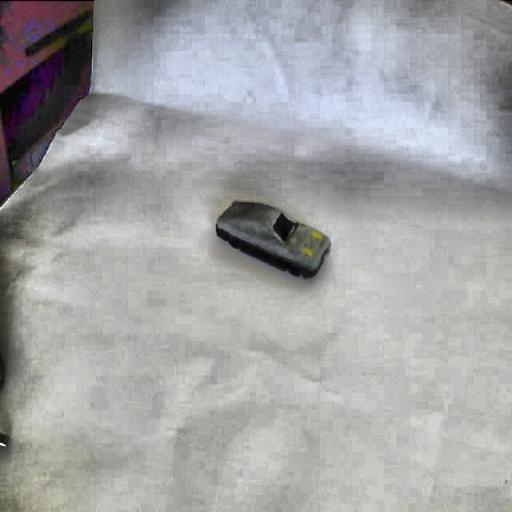normal_car: (211, 194, 331, 281)
